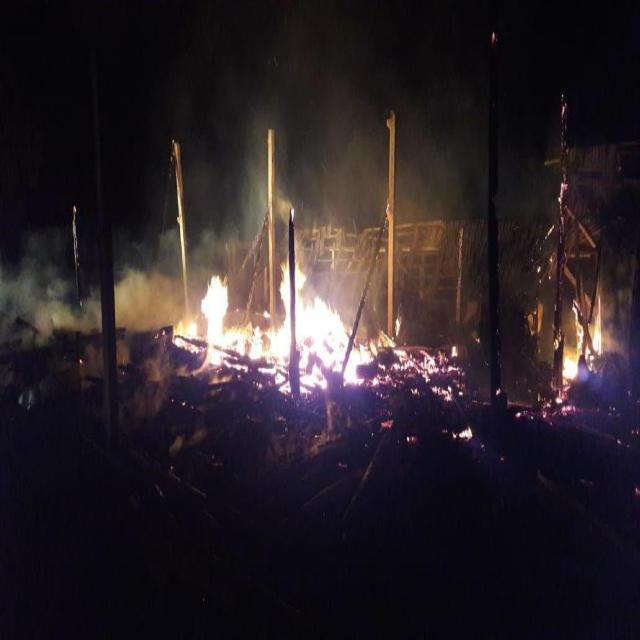Fire: (168, 254, 370, 396), (370, 342, 463, 406), (562, 293, 602, 387), (455, 424, 473, 443)
